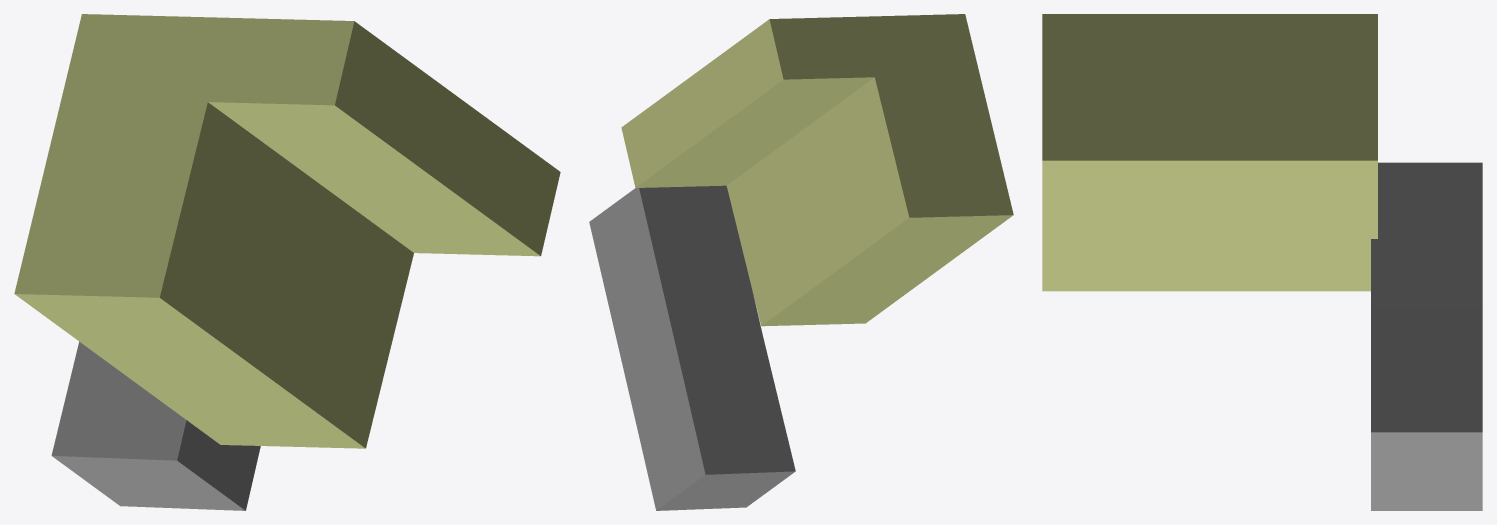
The picture shows the model from 3 angles, left to right: view 1: azimuth 30°, elevation 25°; view 2: azimuth 150°, elevation 25°; view 3: azimuth 270°, elevation 25°; orthographic projection. The views are drawn at different scales.
Visible parts, largest first — view 1: 0_1_2_0_1_3_3_1_0_1_0; view 2: 0_1_2_0_1_3_3_1_0_1_0; view 3: 0_1_2_0_1_3_3_1_0_1_0.
Part boxes in pixels (<box>): 0_1_2_0_1_3_3_1_0_1_0: <box>14,14,560,510</box>; 0_1_2_0_1_3_3_1_0_1_0: <box>589,14,1013,510</box>; 0_1_2_0_1_3_3_1_0_1_0: <box>1042,14,1482,510</box>.
Size of the model in its own units: 8.57 by 12.83 by 11.81.
